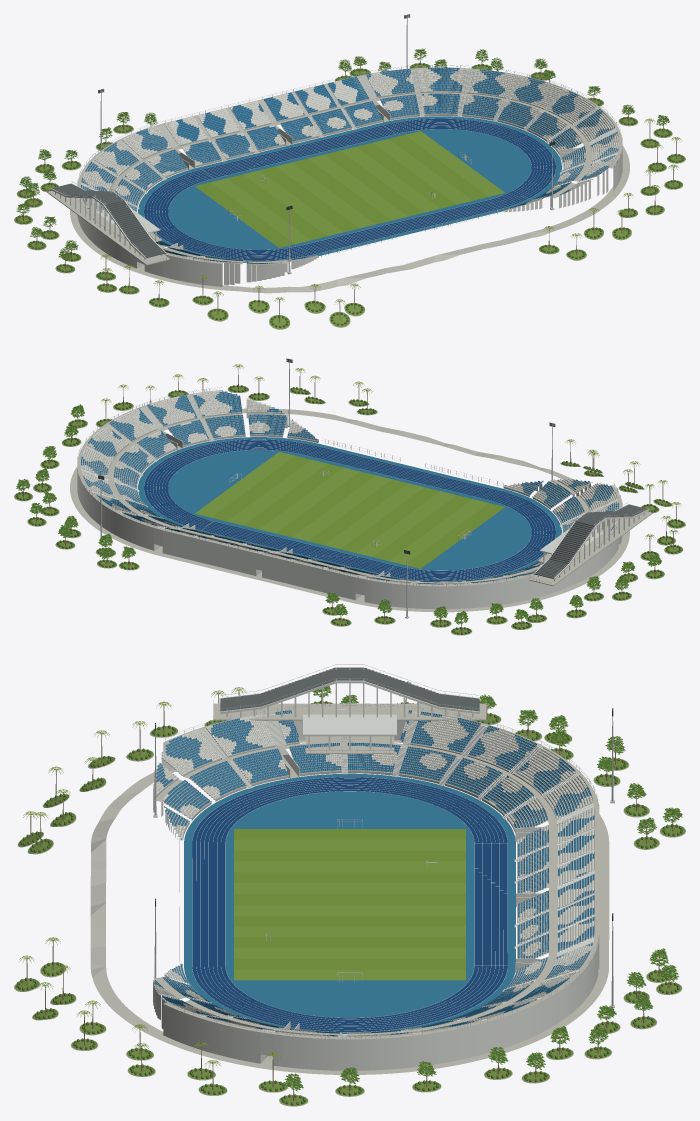
The model's file is stadium-lod0.glb.
3 renders of one model, top to bottom at view 1: azimuth 30°, elevation 25°; view 2: azimuth 150°, elevation 25°; view 3: azimuth 270°, elevation 25°, orthographic. The views are drawn at different scales.
Parts seen in each view (by area): view 1: two tier seating terraces | concrete, individual blue bucket seats | blue seats, blue track runoff apron | runoff, eight lane blue running track | track, natural turf mowing strips | grass, natural turf mowing strips | grass stripe, individual white bucket seats | white seats, white stand cheek walls and copings | ivory metal, circulation concourses | pale paving, connected planted lawns | lawn, terrain conforming perimeter paving | pale paving, track lane and staggered start markings | white line (+9 smaller); view 2: white stand cheek walls and copings | ivory metal, blue track runoff apron | runoff, eight lane blue running track | track, two tier seating terraces | concrete, natural turf mowing strips | grass, natural turf mowing strips | grass stripe, individual blue bucket seats | blue seats, individual white bucket seats | white seats, circulation concourses | pale paving, terrain conforming perimeter paving | pale paving, track lane and staggered start markings | white line, connected planted lawns | lawn (+9 smaller); view 3: two tier seating terraces | concrete, blue track runoff apron | runoff, eight lane blue running track | track, white stand cheek walls and copings | ivory metal, individual blue bucket seats | blue seats, natural turf mowing strips | grass stripe, natural turf mowing strips | grass, individual white bucket seats | white seats, circulation concourses | pale paving, terrain conforming perimeter paving | pale paving, connected planted lawns | lawn, track lane and staggered start markings | white line (+9 smaller).
Part boxes in pixels (bbox=[...]): two tier seating terraces | concrete: bbox=[80, 69, 619, 264]; individual blue bucket seats | blue seats: bbox=[81, 67, 618, 263]; blue track runoff apron | runoff: bbox=[138, 116, 561, 262]; eight lane blue running track | track: bbox=[144, 118, 555, 260]; natural turf mowing strips | grass: bbox=[195, 135, 488, 247]; natural turf mowing strips | grass stripe: bbox=[211, 131, 504, 243]; individual white bucket seats | white seats: bbox=[82, 68, 618, 263]; white stand cheek walls and copings | ivory metal: bbox=[77, 69, 622, 286]; circulation concourses | pale paving: bbox=[47, 67, 622, 268]; connected planted lawns | lawn: bbox=[14, 63, 685, 329]; terrain conforming perimeter paving | pale paving: bbox=[70, 119, 629, 293]; track lane and staggered start markings | white line: bbox=[144, 118, 555, 260]; white stand cheek walls and copings | ivory metal: bbox=[77, 394, 622, 609]; blue track runoff apron | runoff: bbox=[138, 437, 561, 581]; eight lane blue running track | track: bbox=[144, 439, 555, 580]; two tier seating terraces | concrete: bbox=[80, 391, 619, 584]; natural turf mowing strips | grass: bbox=[211, 456, 504, 568]; natural turf mowing strips | grass stripe: bbox=[195, 452, 488, 564]; individual blue bucket seats | blue seats: bbox=[81, 391, 618, 584]; individual white bucket seats | white seats: bbox=[81, 390, 618, 584]; circulation concourses | pale paving: bbox=[77, 390, 652, 600]; terrain conforming perimeter paving | pale paving: bbox=[70, 408, 629, 612]; track lane and staggered start markings | white line: bbox=[144, 439, 555, 581]; connected planted lawns | lawn: bbox=[14, 386, 685, 634]; two tier seating terraces | concrete: bbox=[153, 712, 594, 1037]; blue track runoff apron | runoff: bbox=[184, 773, 515, 1033]; eight lane blue running track | track: bbox=[192, 777, 507, 1031]; white stand cheek walls and copings | ivory metal: bbox=[153, 708, 599, 1070]; individual blue bucket seats | blue seats: bbox=[154, 710, 594, 1036]; natural turf mowing strips | grass stripe: bbox=[234, 839, 465, 980]; natural turf mowing strips | grass: bbox=[234, 829, 465, 969]; individual white bucket seats | white seats: bbox=[154, 714, 594, 1036]; circulation concourses | pale paving: bbox=[154, 703, 599, 1062]; terrain conforming perimeter paving | pale paving: bbox=[90, 740, 609, 1074]; connected planted lawns | lawn: bbox=[14, 702, 685, 1105]; track lane and staggered start markings | white line: bbox=[192, 777, 507, 1032].
Size of the model in its own units: 280 by 38.03 by 197.
